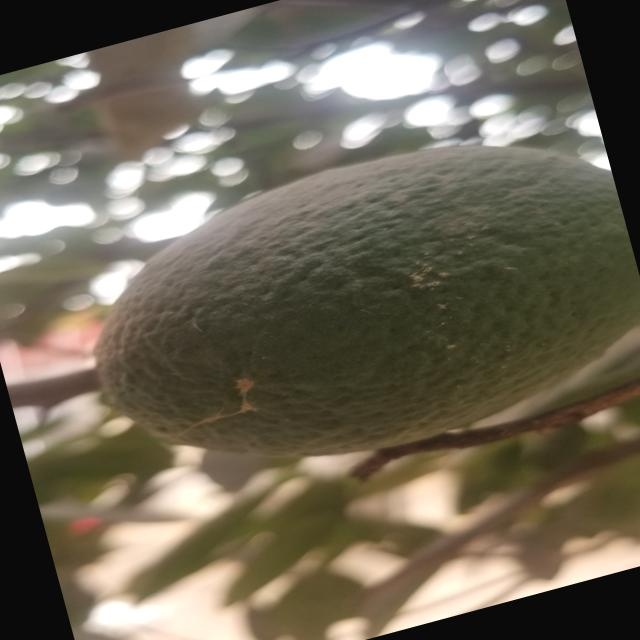agrume: (39, 100, 640, 527)
